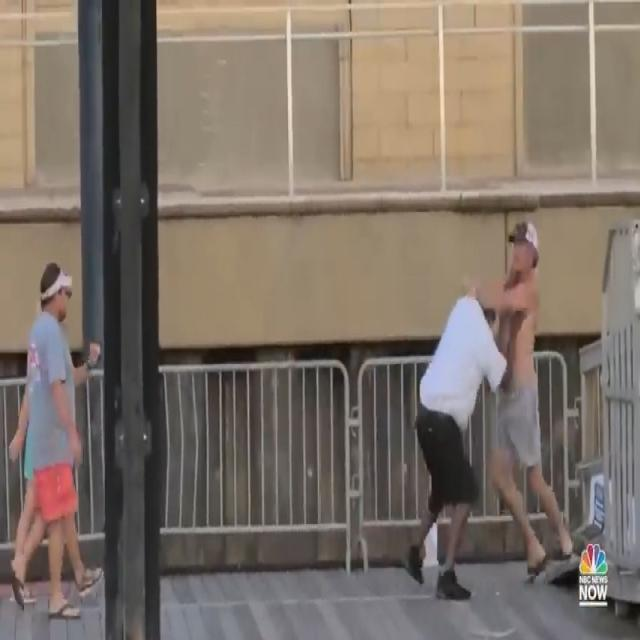fight: (398, 209, 578, 614)
non-fight: (7, 234, 108, 640)
